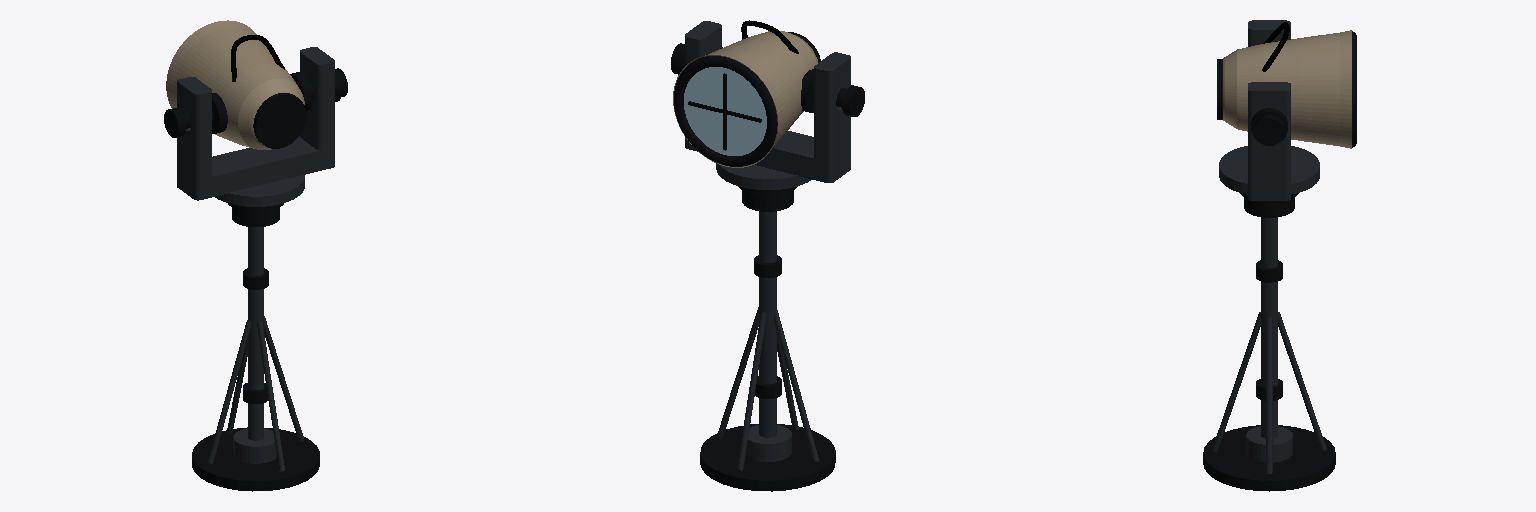
The robot description file, URDF, robot "searchlight_tower":
<robot name="searchlight_tower">
  <material name="painted_steel">
    <color rgba="0.18 0.2 0.22 1" />
    </material>
  <material name="dark_steel">
    <color rgba="0.08 0.09 0.1 1" />
    </material>
  <material name="warm_metal">
    <color rgba="0.58 0.53 0.45 1" />
    </material>
  <material name="pale_glass">
    <color rgba="0.72 0.86 0.92 0.42" />
    </material>
  <material name="black_rubber">
    <color rgba="0.03 0.03 0.032 1" />
    </material>
  <link name="fixed_support">
    <visual name="base_plate">
      <origin xyz="0 0 0.03" rpy="0 0 0" />
      <geometry>
        <cylinder radius="0.34" length="0.06" />
        </geometry>
      <material name="dark_steel">
        <color rgba="0.08 0.09 0.1 1" />
        </material>
      </visual>
    <visual name="mast_foot">
      <origin xyz="0 0 0.11" rpy="0 0 0" />
      <geometry>
        <cylinder radius="0.12" length="0.1" />
        </geometry>
      <material name="painted_steel">
        <color rgba="0.18 0.2 0.22 1" />
        </material>
      </visual>
    <visual name="mast_tube">
      <origin xyz="0 0 0.78" rpy="0 0 0" />
      <geometry>
        <cylinder radius="0.045" length="1.34" />
        </geometry>
      <material name="painted_steel">
        <color rgba="0.18 0.2 0.22 1" />
        </material>
      </visual>
    <visual name="lower_collar">
      <origin xyz="0 0 0.42" rpy="0 0 0" />
      <geometry>
        <cylinder radius="0.07" length="0.07" />
        </geometry>
      <material name="dark_steel">
        <color rgba="0.08 0.09 0.1 1" />
        </material>
      </visual>
    <visual name="upper_collar">
      <origin xyz="0 0 1.09" rpy="0 0 0" />
      <geometry>
        <cylinder radius="0.07" length="0.07" />
        </geometry>
      <material name="dark_steel">
        <color rgba="0.08 0.09 0.1 1" />
        </material>
      </visual>
    <visual name="top_bearing">
      <origin xyz="0 0 1.5" rpy="0 0 0" />
      <geometry>
        <cylinder radius="0.13" length="0.1" />
        </geometry>
      <material name="dark_steel">
        <color rgba="0.08 0.09 0.1 1" />
        </material>
      </visual>
    <visual name="brace_0">
      <geometry>
        <mesh filename="assets/meshes/tower_brace_0.obj" />
        </geometry>
      <material name="painted_steel">
        <color rgba="0.18 0.2 0.22 1" />
        </material>
      </visual>
    <visual name="brace_1">
      <geometry>
        <mesh filename="assets/meshes/tower_brace_1.obj" />
        </geometry>
      <material name="painted_steel">
        <color rgba="0.18 0.2 0.22 1" />
        </material>
      </visual>
    <visual name="brace_2">
      <geometry>
        <mesh filename="assets/meshes/tower_brace_2.obj" />
        </geometry>
      <material name="painted_steel">
        <color rgba="0.18 0.2 0.22 1" />
        </material>
      </visual>
    <visual name="brace_3">
      <geometry>
        <mesh filename="assets/meshes/tower_brace_3.obj" />
        </geometry>
      <material name="painted_steel">
        <color rgba="0.18 0.2 0.22 1" />
        </material>
      </visual>
    <collision name="base_plate">
      <origin xyz="0 0 0.03" rpy="0 0 0" />
      <geometry>
        <cylinder radius="0.34" length="0.06" />
        </geometry>
      </collision>
    <collision name="mast_foot">
      <origin xyz="0 0 0.11" rpy="0 0 0" />
      <geometry>
        <cylinder radius="0.12" length="0.1" />
        </geometry>
      </collision>
    <collision name="mast_tube">
      <origin xyz="0 0 0.78" rpy="0 0 0" />
      <geometry>
        <cylinder radius="0.045" length="1.34" />
        </geometry>
      </collision>
    <collision name="lower_collar">
      <origin xyz="0 0 0.42" rpy="0 0 0" />
      <geometry>
        <cylinder radius="0.07" length="0.07" />
        </geometry>
      </collision>
    <collision name="upper_collar">
      <origin xyz="0 0 1.09" rpy="0 0 0" />
      <geometry>
        <cylinder radius="0.07" length="0.07" />
        </geometry>
      </collision>
    <collision name="top_bearing">
      <origin xyz="0 0 1.5" rpy="0 0 0" />
      <geometry>
        <cylinder radius="0.13" length="0.1" />
        </geometry>
      </collision>
    <collision name="brace_0">
      <geometry>
        <mesh filename="assets/meshes/tower_brace_0.obj" />
        </geometry>
      </collision>
    <collision name="brace_1">
      <geometry>
        <mesh filename="assets/meshes/tower_brace_1.obj" />
        </geometry>
      </collision>
    <collision name="brace_2">
      <geometry>
        <mesh filename="assets/meshes/tower_brace_2.obj" />
        </geometry>
      </collision>
    <collision name="brace_3">
      <geometry>
        <mesh filename="assets/meshes/tower_brace_3.obj" />
        </geometry>
      </collision>
    </link>
  <link name="pan_carriage">
    <visual name="bearing_drum">
      <origin xyz="0 0 0.04" rpy="0 0 0" />
      <geometry>
        <cylinder radius="0.158" length="0.08" />
        </geometry>
      <material name="dark_steel">
        <color rgba="0.08 0.09 0.1 1" />
        </material>
      </visual>
    <visual name="rotating_deck">
      <origin xyz="0 0 0.11" rpy="0 0 0" />
      <geometry>
        <cylinder radius="0.26" length="0.06" />
        </geometry>
      <material name="painted_steel">
        <color rgba="0.18 0.2 0.22 1" />
        </material>
      </visual>
    <visual name="turret_neck">
      <origin xyz="0 0 0.185" rpy="0 0 0" />
      <geometry>
        <cylinder radius="0.105" length="0.12" />
        </geometry>
      <material name="painted_steel">
        <color rgba="0.18 0.2 0.22 1" />
        </material>
      </visual>
    <visual name="yoke_frame">
      <origin xyz="0 0 0.137" rpy="0 0 0" />
      <geometry>
        <mesh filename="assets/meshes/searchlight_yoke_frame.obj" />
        </geometry>
      <material name="painted_steel">
        <color rgba="0.18 0.2 0.22 1" />
        </material>
      </visual>
    <visual name="pivot_bushing_0">
      <origin xyz="0.452 0 0.567" rpy="0 1.5708 0" />
      <geometry>
        <mesh filename="assets/meshes/pivot_bushing_0.obj" />
        </geometry>
      <material name="dark_steel">
        <color rgba="0.08 0.09 0.1 1" />
        </material>
      </visual>
    <visual name="pivot_bushing_1">
      <origin xyz="-0.452 0 0.567" rpy="0 1.5708 0" />
      <geometry>
        <mesh filename="assets/meshes/pivot_bushing_1.obj" />
        </geometry>
      <material name="dark_steel">
        <color rgba="0.08 0.09 0.1 1" />
        </material>
      </visual>
    <collision name="bearing_drum">
      <origin xyz="0 0 0.04" rpy="0 0 0" />
      <geometry>
        <cylinder radius="0.158" length="0.08" />
        </geometry>
      </collision>
    <collision name="rotating_deck">
      <origin xyz="0 0 0.11" rpy="0 0 0" />
      <geometry>
        <cylinder radius="0.26" length="0.06" />
        </geometry>
      </collision>
    <collision name="turret_neck">
      <origin xyz="0 0 0.185" rpy="0 0 0" />
      <geometry>
        <cylinder radius="0.105" length="0.12" />
        </geometry>
      </collision>
    <collision name="yoke_frame">
      <origin xyz="0 0 0.137" rpy="0 0 0" />
      <geometry>
        <mesh filename="assets/meshes/searchlight_yoke_frame.obj" />
        </geometry>
      </collision>
    <collision name="pivot_bushing_0">
      <origin xyz="0.452 0 0.567" rpy="0 1.5708 0" />
      <geometry>
        <mesh filename="assets/meshes/pivot_bushing_0.obj" />
        </geometry>
      </collision>
    <collision name="pivot_bushing_1">
      <origin xyz="-0.452 0 0.567" rpy="0 1.5708 0" />
      <geometry>
        <mesh filename="assets/meshes/pivot_bushing_1.obj" />
        </geometry>
      </collision>
    </link>
  <link name="lamp_head">
    <visual name="lamp_shell">
      <origin xyz="0 0 0" rpy="-1.5708 0 0" />
      <geometry>
        <mesh filename="assets/meshes/searchlight_lamp_shell.obj" />
        </geometry>
      <material name="warm_metal">
        <color rgba="0.58 0.53 0.45 1" />
        </material>
      </visual>
    <visual name="trunnion_shaft">
      <origin xyz="0 0 0" rpy="0 1.5708 0" />
      <geometry>
        <cylinder radius="0.045" length="0.99" />
        </geometry>
      <material name="dark_steel">
        <color rgba="0.08 0.09 0.1 1" />
        </material>
      </visual>
    <visual name="side_hub_0">
      <origin xyz="0.26 0 0" rpy="0 1.5708 0" />
      <geometry>
        <cylinder radius="0.108" length="0.05" />
        </geometry>
      <material name="dark_steel">
        <color rgba="0.08 0.09 0.1 1" />
        </material>
      </visual>
    <visual name="side_hub_1">
      <origin xyz="-0.26 0 0" rpy="0 1.5708 0" />
      <geometry>
        <cylinder radius="0.108" length="0.05" />
        </geometry>
      <material name="dark_steel">
        <color rgba="0.08 0.09 0.1 1" />
        </material>
      </visual>
    <visual name="front_lens">
      <origin xyz="0 0.418 0" rpy="-1.5708 0 0" />
      <geometry>
        <cylinder radius="0.246" length="0.018" />
        </geometry>
      <material name="pale_glass">
        <color rgba="0.72 0.86 0.92 0.42" />
        </material>
      </visual>
    <visual name="front_lip">
      <origin xyz="0 0.418 0" rpy="-1.5708 0 0" />
      <geometry>
        <mesh filename="assets/meshes/searchlight_front_lip.obj" />
        </geometry>
      <material name="dark_steel">
        <color rgba="0.08 0.09 0.1 1" />
        </material>
      </visual>
    <visual name="lens_bar_x">
      <origin xyz="0 0.43 0" rpy="0 0 0" />
      <geometry>
        <box size="0.42 0.014 0.018" />
        </geometry>
      <material name="dark_steel">
        <color rgba="0.08 0.09 0.1 1" />
        </material>
      </visual>
    <visual name="lens_bar_z">
      <origin xyz="0 0.431 0" rpy="0 0 0" />
      <geometry>
        <box size="0.018 0.014 0.42" />
        </geometry>
      <material name="dark_steel">
        <color rgba="0.08 0.09 0.1 1" />
        </material>
      </visual>
    <visual name="rear_cap">
      <origin xyz="0 -0.246 0" rpy="-1.5708 0 0" />
      <geometry>
        <cylinder radius="0.155" length="0.05" />
        </geometry>
      <material name="dark_steel">
        <color rgba="0.08 0.09 0.1 1" />
        </material>
      </visual>
    <visual name="top_handle">
      <geometry>
        <mesh filename="assets/meshes/searchlight_top_handle.obj" />
        </geometry>
      <material name="black_rubber">
        <color rgba="0.03 0.03 0.032 1" />
        </material>
      </visual>
    <visual name="retaining_cap_0">
      <origin xyz="0.497 0 0" rpy="0 1.5708 0" />
      <geometry>
        <cylinder radius="0.078" length="0.045" />
        </geometry>
      <material name="dark_steel">
        <color rgba="0.08 0.09 0.1 1" />
        </material>
      </visual>
    <visual name="retaining_cap_1">
      <origin xyz="-0.497 0 0" rpy="0 1.5708 0" />
      <geometry>
        <cylinder radius="0.078" length="0.045" />
        </geometry>
      <material name="dark_steel">
        <color rgba="0.08 0.09 0.1 1" />
        </material>
      </visual>
    <collision name="lamp_shell">
      <origin xyz="0 0 0" rpy="-1.5708 0 0" />
      <geometry>
        <mesh filename="assets/meshes/searchlight_lamp_shell.obj" />
        </geometry>
      </collision>
    <collision name="trunnion_shaft">
      <origin xyz="0 0 0" rpy="0 1.5708 0" />
      <geometry>
        <cylinder radius="0.045" length="0.99" />
        </geometry>
      </collision>
    <collision name="side_hub_0">
      <origin xyz="0.26 0 0" rpy="0 1.5708 0" />
      <geometry>
        <cylinder radius="0.108" length="0.05" />
        </geometry>
      </collision>
    <collision name="side_hub_1">
      <origin xyz="-0.26 0 0" rpy="0 1.5708 0" />
      <geometry>
        <cylinder radius="0.108" length="0.05" />
        </geometry>
      </collision>
    <collision name="front_lens">
      <origin xyz="0 0.418 0" rpy="-1.5708 0 0" />
      <geometry>
        <cylinder radius="0.246" length="0.018" />
        </geometry>
      </collision>
    <collision name="front_lip">
      <origin xyz="0 0.418 0" rpy="-1.5708 0 0" />
      <geometry>
        <mesh filename="assets/meshes/searchlight_front_lip.obj" />
        </geometry>
      </collision>
    <collision name="lens_bar_x">
      <origin xyz="0 0.43 0" rpy="0 0 0" />
      <geometry>
        <box size="0.42 0.014 0.018" />
        </geometry>
      </collision>
    <collision name="lens_bar_z">
      <origin xyz="0 0.431 0" rpy="0 0 0" />
      <geometry>
        <box size="0.018 0.014 0.42" />
        </geometry>
      </collision>
    <collision name="rear_cap">
      <origin xyz="0 -0.246 0" rpy="-1.5708 0 0" />
      <geometry>
        <cylinder radius="0.155" length="0.05" />
        </geometry>
      </collision>
    <collision name="top_handle">
      <geometry>
        <mesh filename="assets/meshes/searchlight_top_handle.obj" />
        </geometry>
      </collision>
    <collision name="retaining_cap_0">
      <origin xyz="0.497 0 0" rpy="0 1.5708 0" />
      <geometry>
        <cylinder radius="0.078" length="0.045" />
        </geometry>
      </collision>
    <collision name="retaining_cap_1">
      <origin xyz="-0.497 0 0" rpy="0 1.5708 0" />
      <geometry>
        <cylinder radius="0.078" length="0.045" />
        </geometry>
      </collision>
    </link>
  <joint name="base_pan" type="revolute">
    <origin xyz="0 0 1.55" rpy="0 0 0" />
    <parent link="fixed_support" />
    <child link="pan_carriage" />
    <axis xyz="0 0 1" />
    <limit effort="220" velocity="1" lower="-3.14159" upper="3.14159" />
    </joint>
  <joint name="yoke_tilt" type="revolute">
    <origin xyz="0 0 0.567" rpy="0 0 0" />
    <parent link="pan_carriage" />
    <child link="lamp_head" />
    <axis xyz="1 0 0" />
    <limit effort="90" velocity="0.9" lower="-0.45" upper="1.1" />
    </joint>
  </robot>

--- Render facts (derived) ---
The picture shows the robot from 3 angles, left to right: view 1: azimuth 30°, elevation 25°; view 2: azimuth 150°, elevation 25°; view 3: azimuth 270°, elevation 25°; orthographic projection.
Robot: searchlight_tower — 3 links, 2 joints (2 revolute); root link fixed_support; default pose: all joints at 0.
Visible links, largest first — view 1: fixed_support, pan_carriage, lamp_head; view 2: lamp_head, fixed_support, pan_carriage; view 3: fixed_support, lamp_head, pan_carriage.
Link boxes in pixels (left/top/right/bottom): fixed_support: left=192, top=208, right=319, bottom=491; pan_carriage: left=177, top=47, right=341, bottom=212; lamp_head: left=164, top=20, right=347, bottom=149; lamp_head: left=671, top=20, right=864, bottom=167; fixed_support: left=700, top=191, right=835, bottom=491; pan_carriage: left=677, top=21, right=850, bottom=195; fixed_support: left=1203, top=197, right=1335, bottom=491; lamp_head: left=1217, top=22, right=1356, bottom=148; pan_carriage: left=1219, top=20, right=1319, bottom=202.
Bounding box of the posed robot: 1.04 × 0.7875 × 2.48 m (x, y, z).
9 mesh visuals loaded from 10 distinct referenced files (9 OBJ); not drawn: 1 (reference not matched to a file when rendering).
